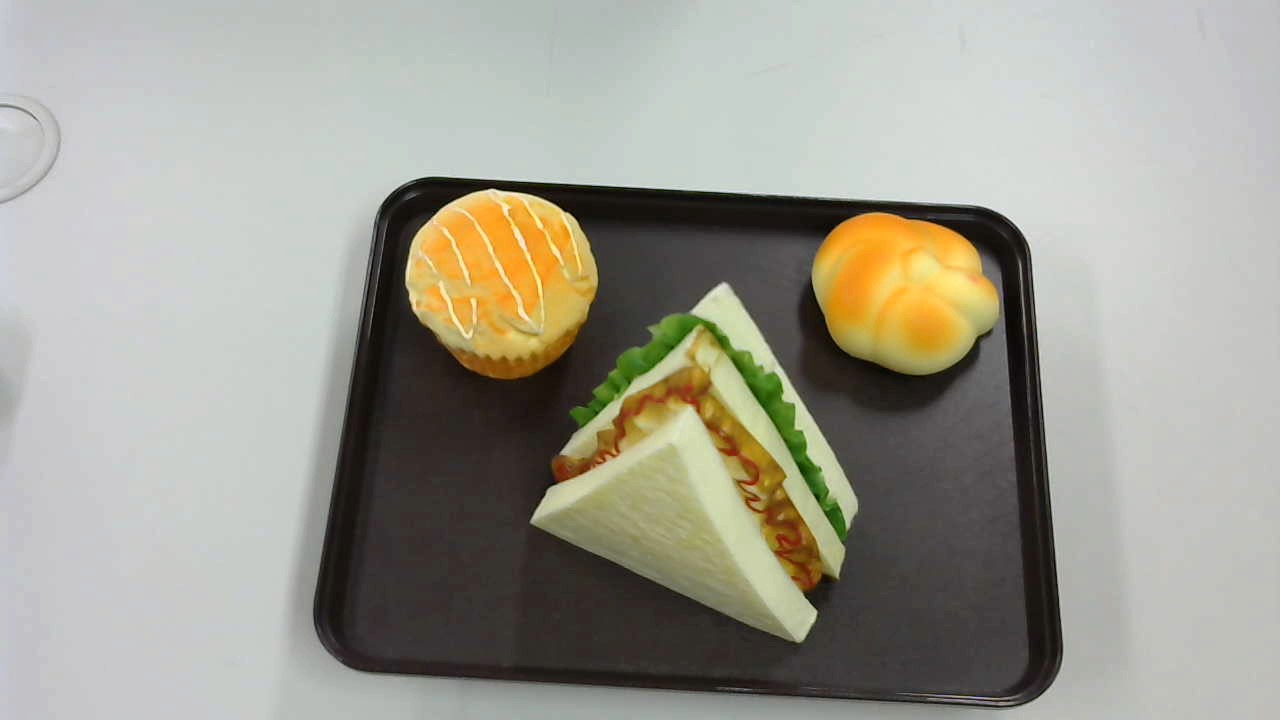cupcake: (405, 188, 598, 379)
sandwich: (530, 281, 860, 644)
twist bread: (812, 209, 1001, 375)
